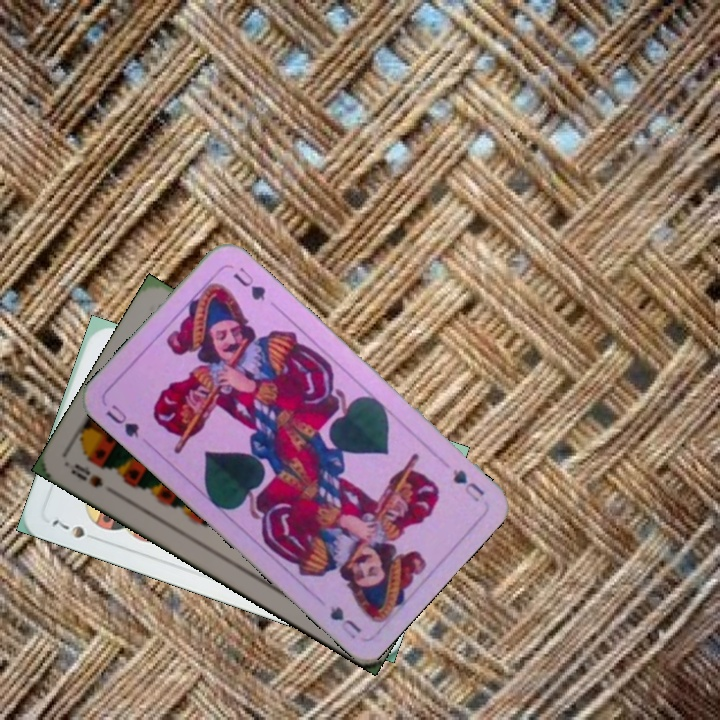GU: (101, 400, 142, 441), (448, 465, 487, 505)
S7: (47, 515, 88, 541)
S8: (67, 459, 106, 490)
